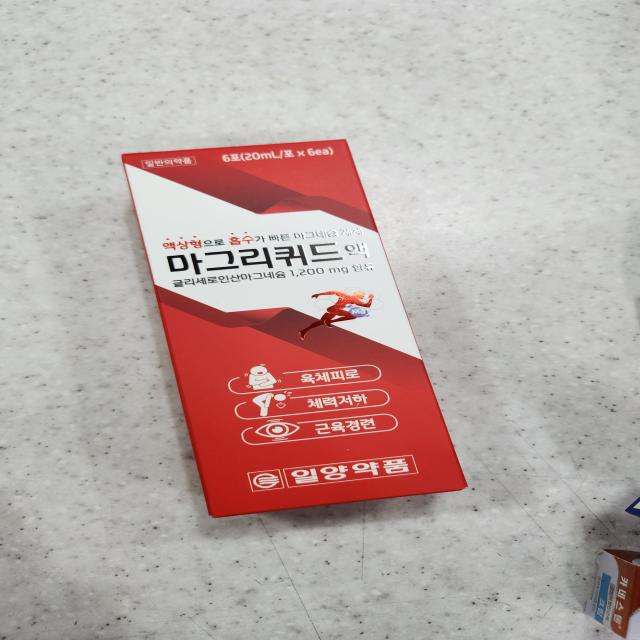box: (124, 140, 464, 517)
